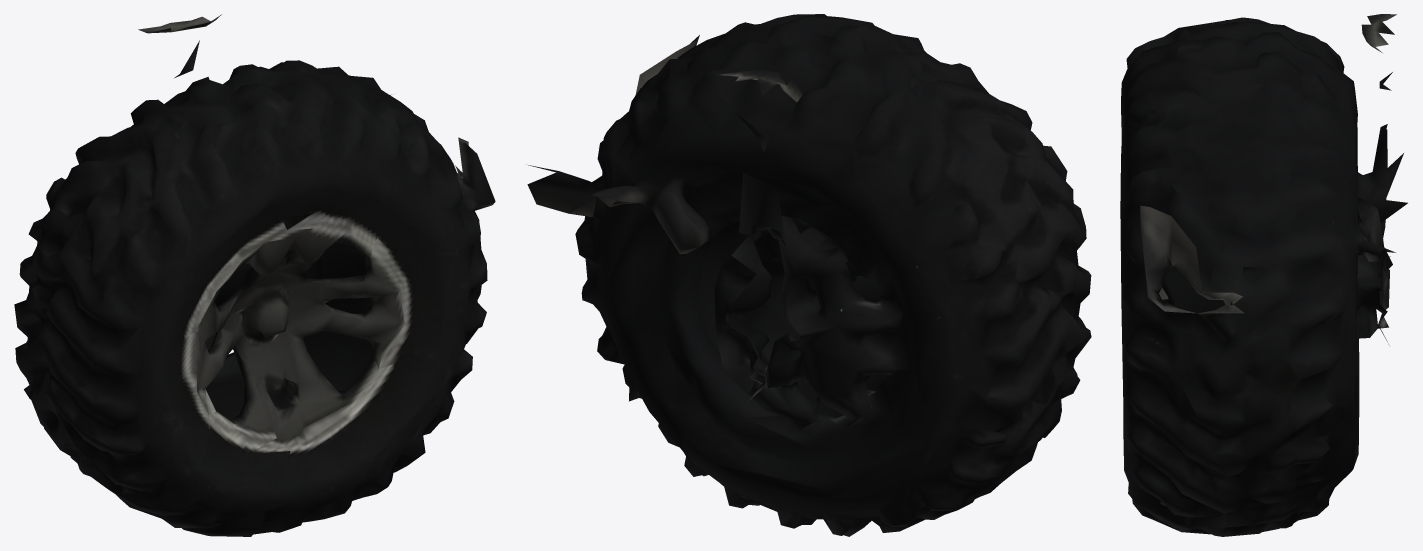
Rendered from SM_Buggy_Wheel.fbx.
3 views of the same model, side by side, from view 1: azimuth 30°, elevation 25°; view 2: azimuth 150°, elevation 25°; view 3: azimuth 270°, elevation 25° (orthographic). The views are drawn at different scales.
Visible parts, largest first — view 1: SM_Buggy_Wheel; view 2: SM_Buggy_Wheel; view 3: SM_Buggy_Wheel.
Part boxes in pixels (x1=…): SM_Buggy_Wheel: x1=14, y1=14, x2=495, y2=536; SM_Buggy_Wheel: x1=527, y1=14, x2=1091, y2=536; SM_Buggy_Wheel: x1=1120, y1=14, x2=1407, y2=536.
Size of the model in its own units: 0.4621 by 0.2533 by 0.4691.
